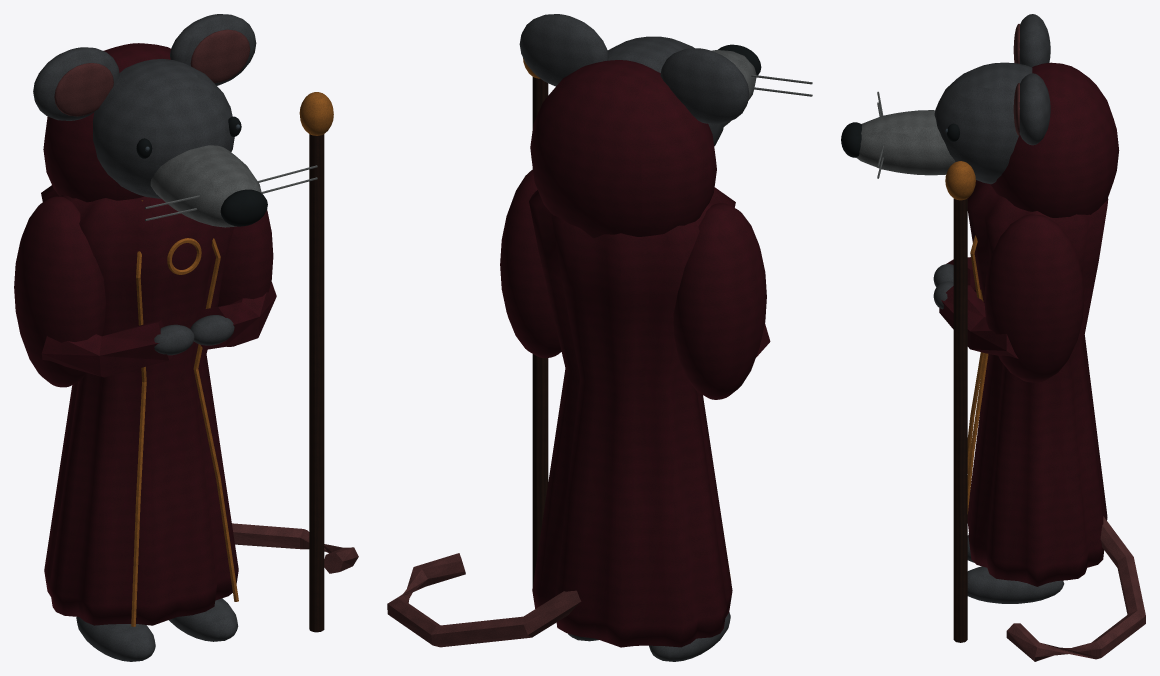
The model's file is scale_rat_high.fbx.
The picture shows the model from 3 angles, left to right: view 1: azimuth 30°, elevation 25°; view 2: azimuth 150°, elevation 25°; view 3: azimuth 270°, elevation 25°; orthographic projection. The views are drawn at different scales.
Parts seen in each view (by area): view 1: scale_rat_high_robe, scale_rat_high_body, scale_rat_high_accessories; view 2: scale_rat_high_robe, scale_rat_high_body, scale_rat_high_accessories; view 3: scale_rat_high_robe, scale_rat_high_body, scale_rat_high_accessories.
Part boxes in pixels (x1,y1,x2,y2): scale_rat_high_robe: (14, 43, 276, 626); scale_rat_high_body: (33, 14, 317, 661); scale_rat_high_accessories: (232, 92, 358, 632); scale_rat_high_robe: (500, 60, 770, 647); scale_rat_high_body: (519, 14, 812, 661); scale_rat_high_accessories: (387, 58, 581, 647); scale_rat_high_robe: (939, 62, 1119, 586); scale_rat_high_body: (841, 14, 1064, 603); scale_rat_high_accessories: (945, 161, 1145, 661).
Size of the model in its own units: 235 by 400 by 207.
Materials: 8 (8 with a texture image).
